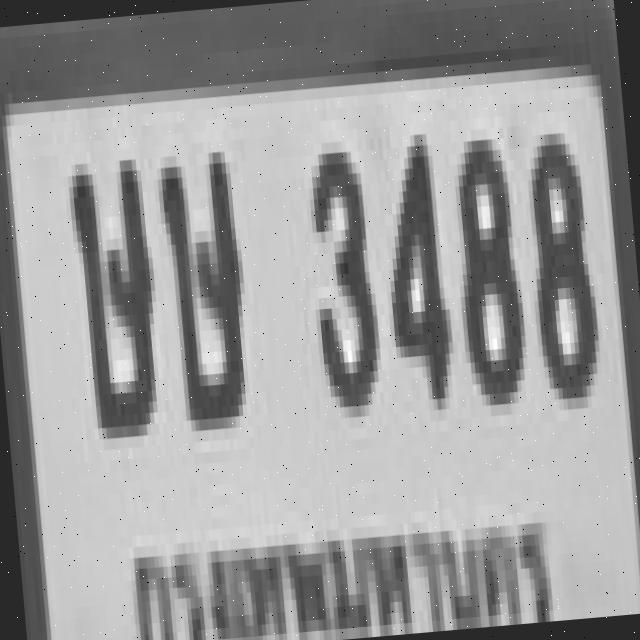3: (296, 140, 381, 408)
4: (372, 122, 448, 402)
48SorRueSi: (150, 140, 251, 422), (60, 148, 160, 430)
8: (518, 120, 598, 390), (446, 127, 521, 396)
Bangkok: (118, 488, 557, 640)
